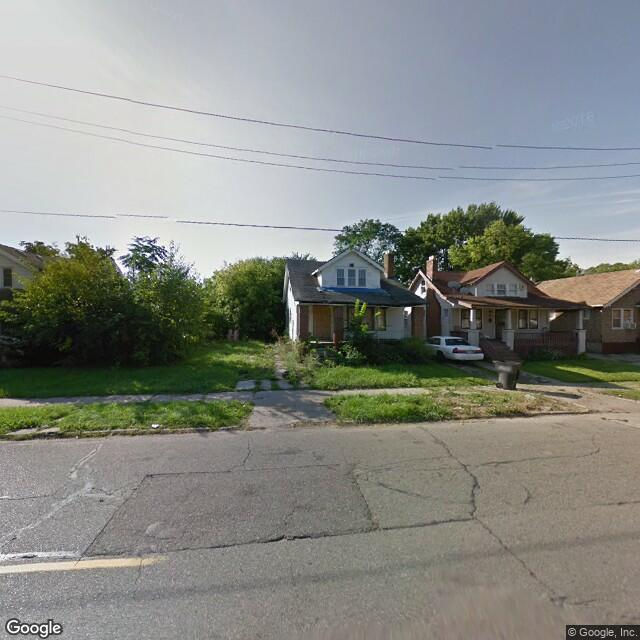litter: (149, 421, 160, 430), (73, 435, 81, 439)
